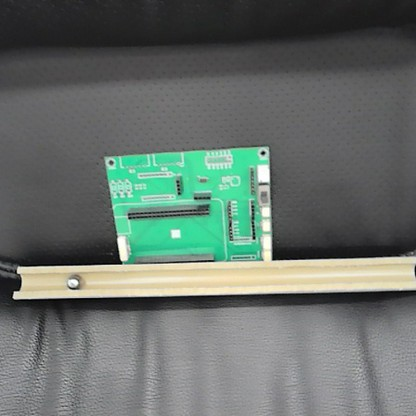ironball: (65, 271, 82, 289)
